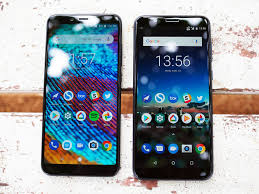asus: (37, 11, 122, 178), (129, 14, 214, 181)
